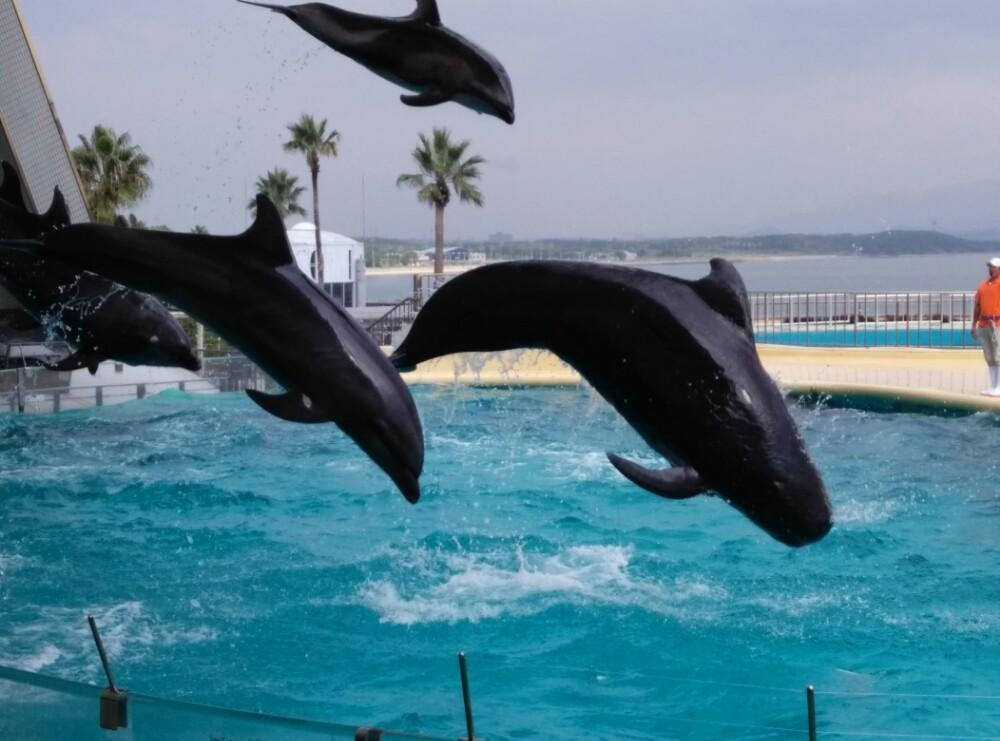fish: (1, 161, 432, 502), (381, 252, 834, 548), (209, 1, 519, 127), (1, 243, 207, 388)
